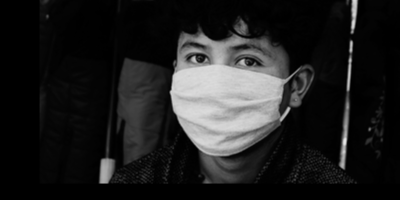with_mask: (170, 38, 289, 158)
